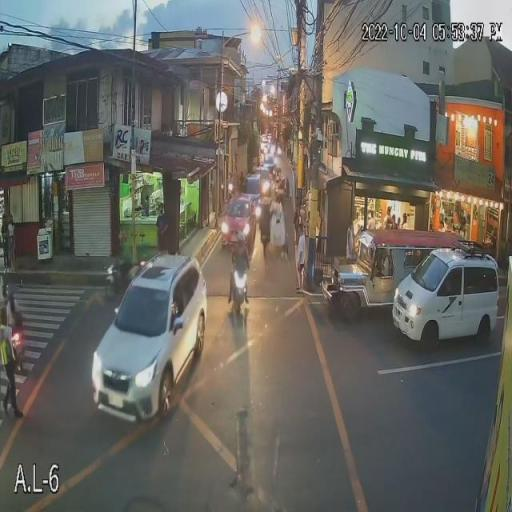helmet: (233, 232, 246, 248)
motorcycle: (230, 267, 246, 311)
rider: (234, 242, 246, 270)
